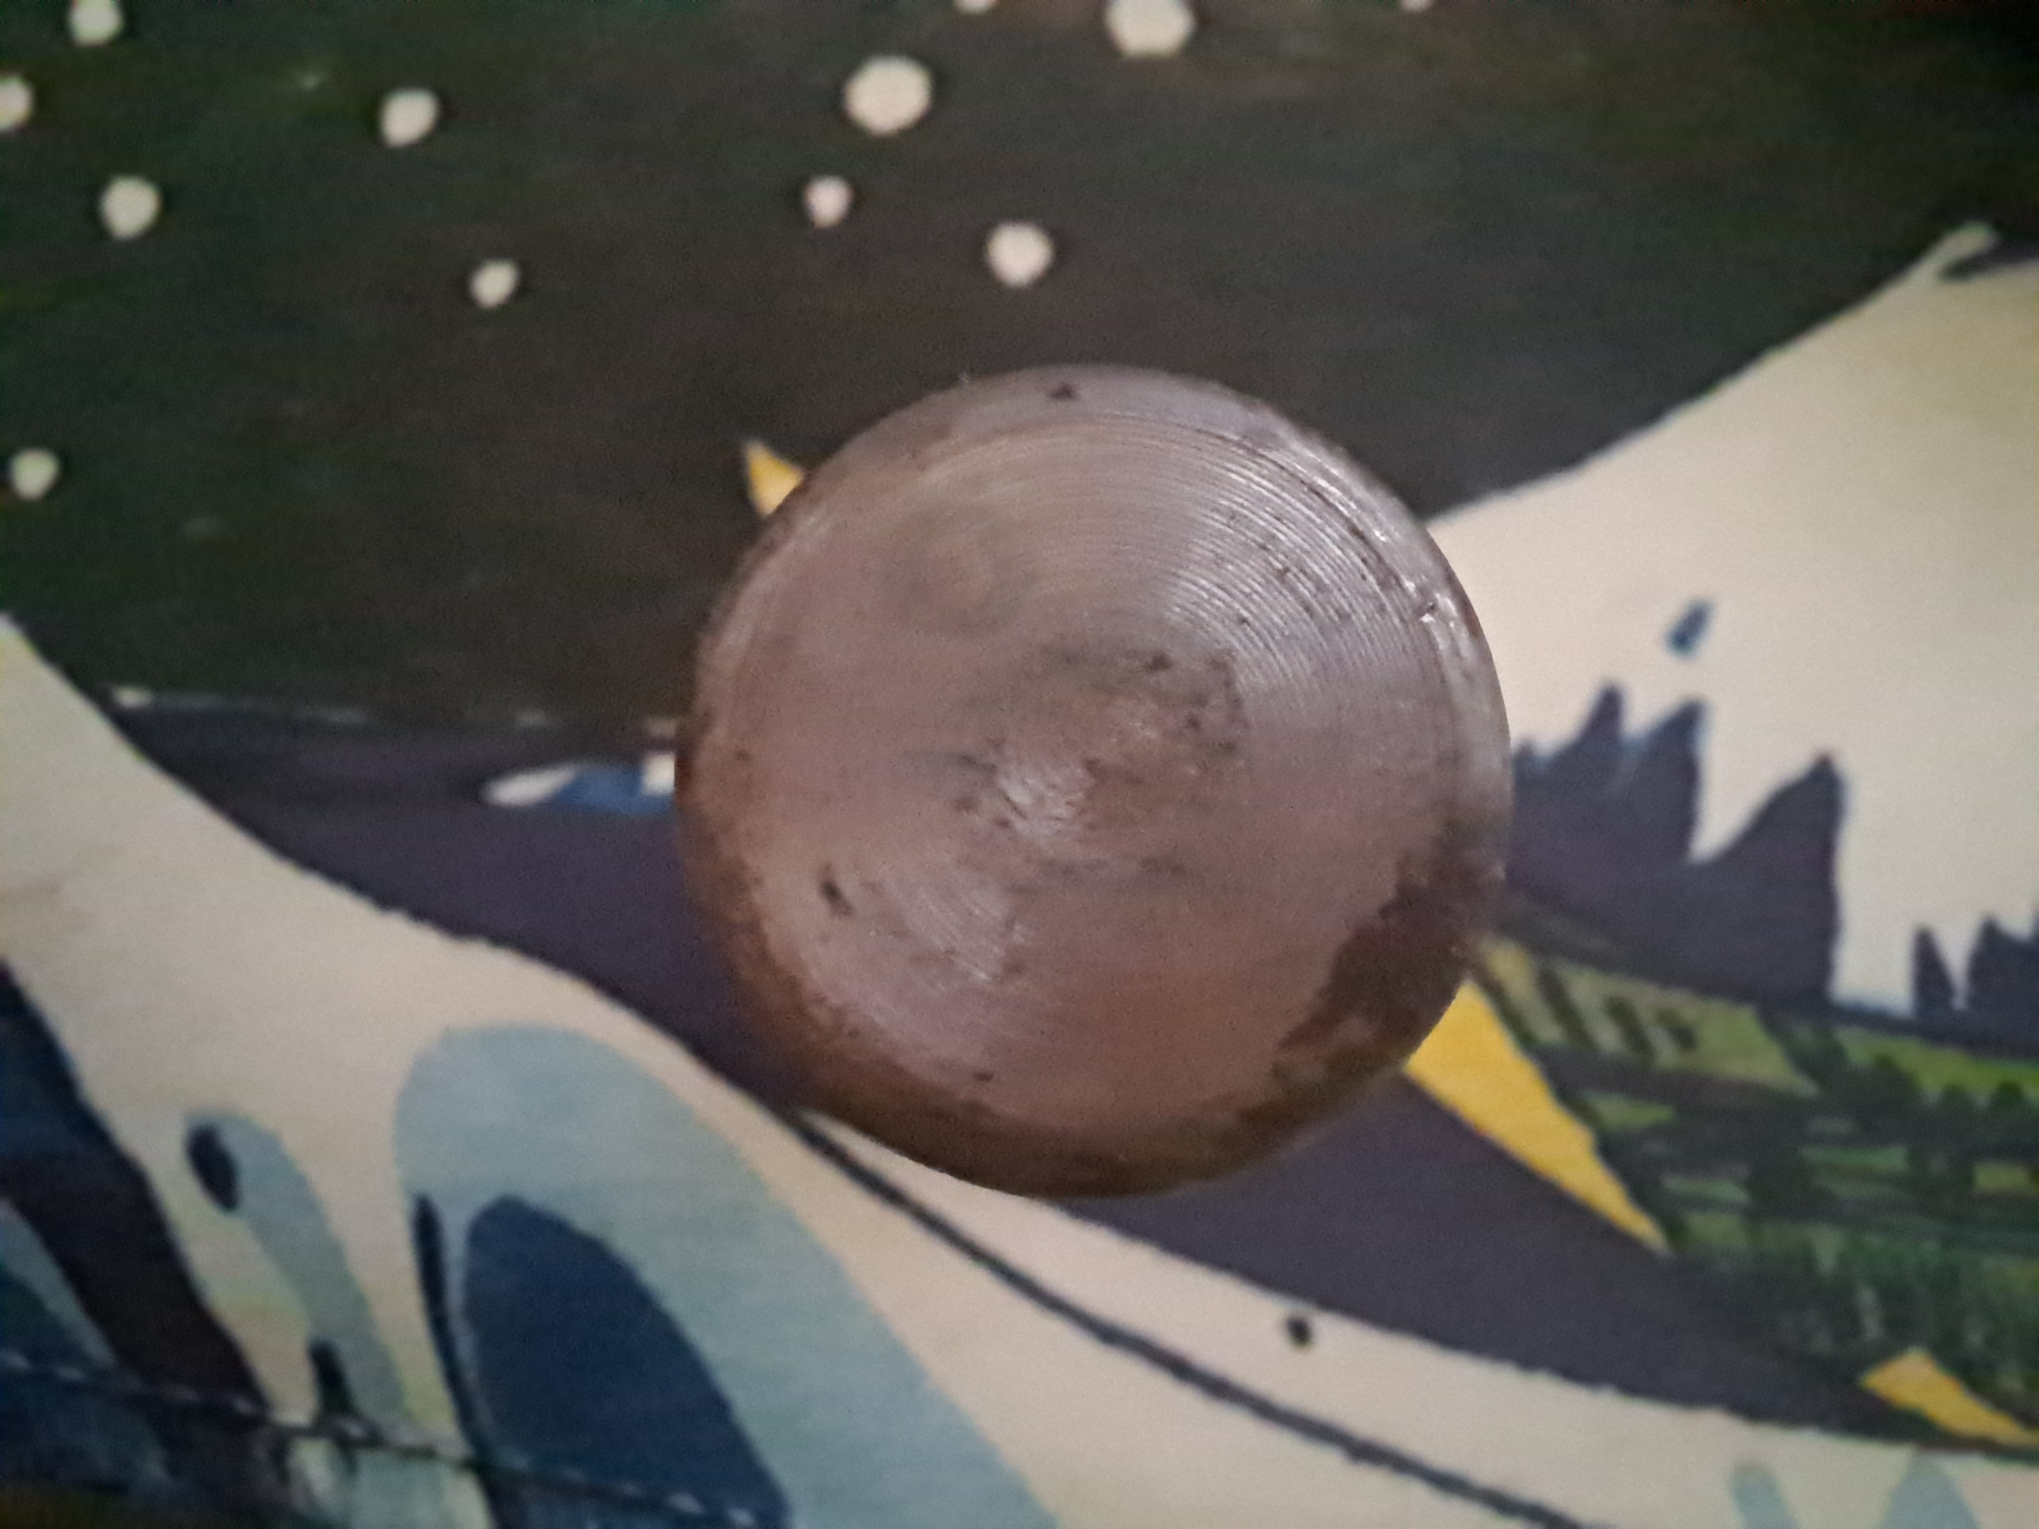плансон: (669, 360, 1520, 1200)
повреждение: (880, 496, 1044, 646)
